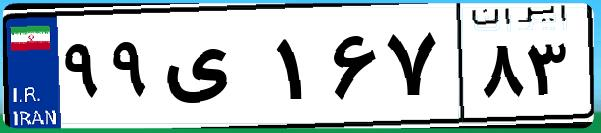1: (270, 28, 330, 110)
3: (525, 38, 570, 115)
6: (330, 28, 385, 110)
7: (385, 28, 445, 110)
8: (475, 38, 525, 113)
9: (57, 26, 110, 100), (110, 28, 158, 98)
ی: (158, 20, 270, 120)
